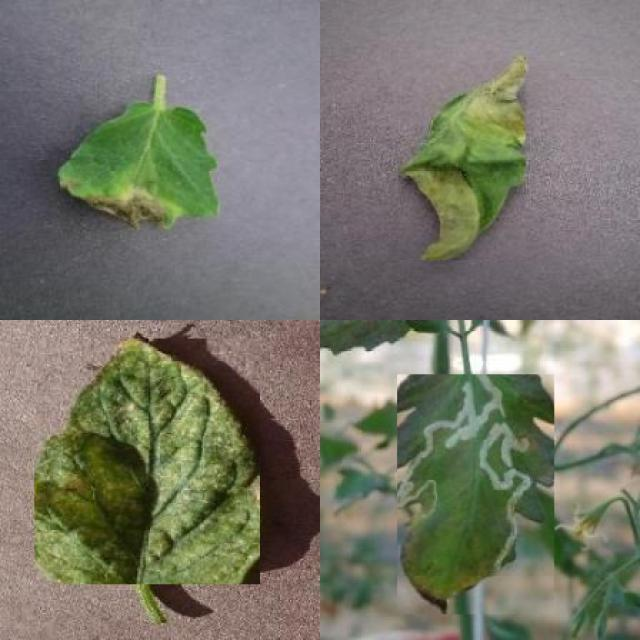Late Blight: (398, 57, 526, 260), (60, 100, 220, 231)
Leaf Miner: (398, 374, 555, 615)
Spider Mites: (34, 339, 260, 584)
